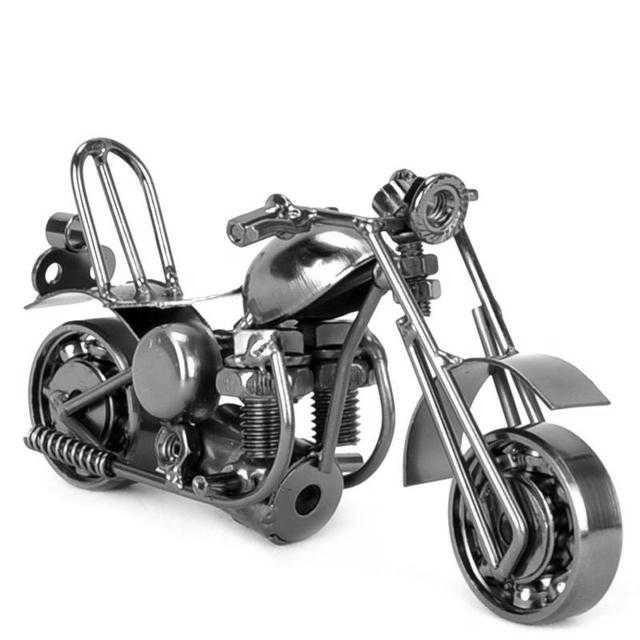Motorcycle: (27, 139, 622, 623)
